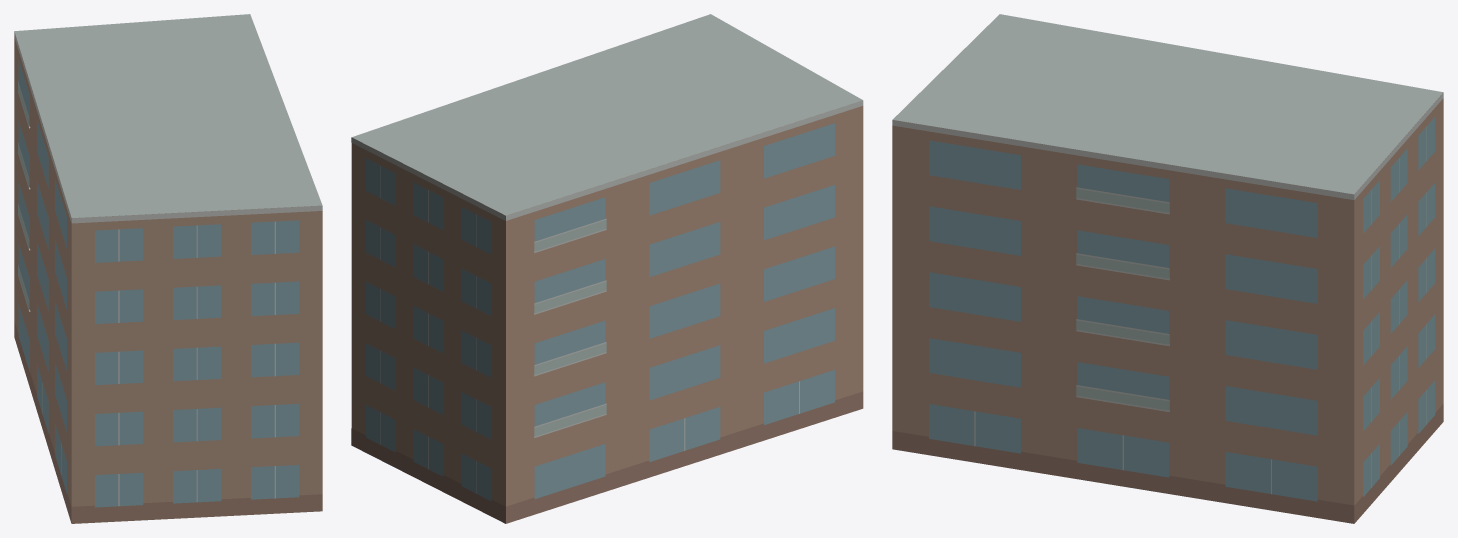
File: survey-upis-32566682.glb
3 views of the same model, side by side, from view 1: azimuth 30°, elevation 25°; view 2: azimuth 150°, elevation 25°; view 3: azimuth 270°, elevation 25° (orthographic). The views are drawn at different scales.
Parts seen in each view (by area): view 1: survey-upis-32566682.tmp; view 2: survey-upis-32566682.tmp; view 3: survey-upis-32566682.tmp.
Part boxes in pixels (x1,y1,x2,y2): survey-upis-32566682.tmp: (14,14,322,523); survey-upis-32566682.tmp: (351,14,863,523); survey-upis-32566682.tmp: (892,14,1443,523).
Size of the model in its own units: 16.45 by 14 by 21.24.
